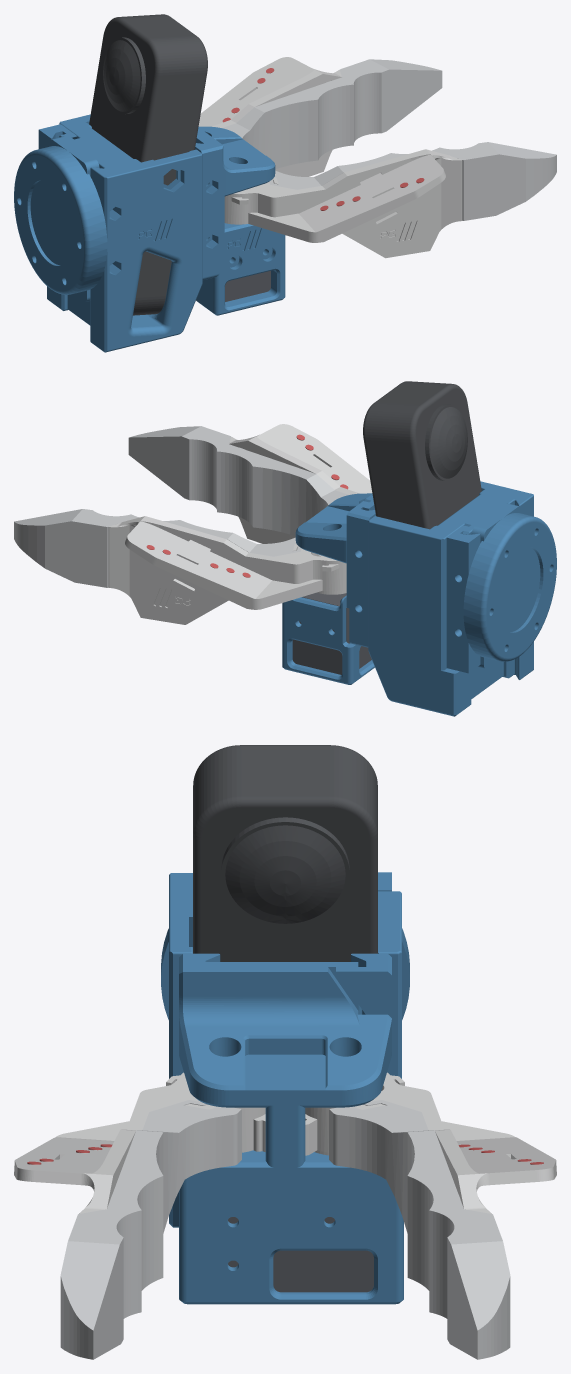
The model's file is pg_chopstick_openarm.glb.
3 views of the same model, one above another, from view 1: azimuth 30°, elevation 25°; view 2: azimuth 150°, elevation 25°; view 3: azimuth 270°, elevation 25° (orthographic). The views are drawn at different scales.
Parts seen in each view (by area): view 1: x5_frame, insta360_x5_envelope, jaw_right, tip_tpu_left, openarm_adapter, chopstick_base_sa, tip_tpu_right, jaw_left_sa, servo_envelope, x5_clip_b; view 2: x5_frame, jaw_left_sa, insta360_x5_envelope, tip_tpu_right, openarm_adapter, chopstick_base_sa, tip_tpu_left, jaw_right, x5_clip_b, chopstick_clip_sa, servo_envelope; view 3: chopstick_base_sa, insta360_x5_envelope, tip_tpu_right, tip_tpu_left, jaw_left_sa, jaw_right, x5_frame, servo_envelope, chopstick_clip_sa, openarm_adapter.
Boxes of the visible parts, <box> form: x5_frame: <box>47,114,202,352</box>; insta360_x5_envelope: <box>89,14,207,315</box>; jaw_right: <box>224,149,462,258</box>; tip_tpu_left: <box>222,59,442,169</box>; openarm_adapter: <box>14,136,107,301</box>; chopstick_base_sa: <box>195,126,285,315</box>; tip_tpu_right: <box>269,142,556,220</box>; jaw_left_sa: <box>198,57,341,176</box>; servo_envelope: <box>225,271,270,301</box>; x5_clip_b: <box>38,124,77,148</box>; x5_frame: <box>368,481,533,716</box>; jaw_left_sa: <box>108,516,346,624</box>; insta360_x5_envelope: <box>363,381,481,529</box>; tip_tpu_right: <box>128,426,348,536</box>; openarm_adapter: <box>463,503,556,668</box>; chopstick_base_sa: <box>282,493,374,684</box>; tip_tpu_left: <box>14,509,301,587</box>; jaw_right: <box>228,424,372,543</box>; x5_clip_b: <box>446,525,480,673</box>; chopstick_clip_sa: <box>346,501,375,647</box>; servo_envelope: <box>292,592,371,674</box>; chopstick_base_sa: <box>179,953,403,1304</box>; insta360_x5_envelope: <box>193,745,377,961</box>; tip_tpu_right: <box>60,1100,241,1359</box>; tip_tpu_left: <box>329,1100,510,1359</box>; jaw_left_sa: <box>305,1072,556,1213</box>; jaw_right: <box>14,1072,265,1213</box>; x5_frame: <box>169,873,401,1227</box>; servo_envelope: <box>228,1217,373,1292</box>; chopstick_clip_sa: <box>336,953,391,1075</box>; openarm_adapter: <box>161,928,409,1019</box>.
Bounding box in the file's own units: 0.2166 × 0.1302 × 0.1352.
